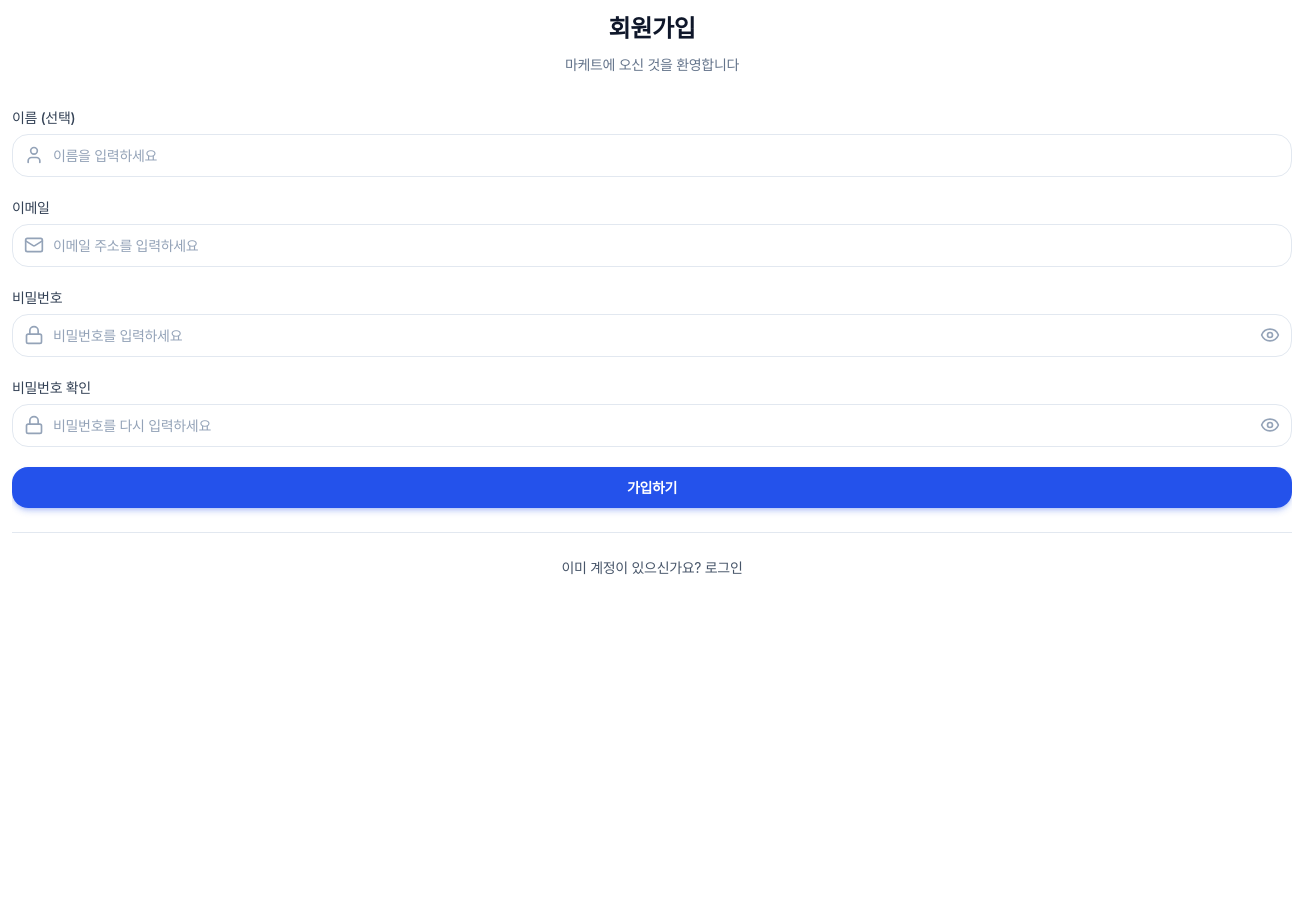
Scenario: SignUpForm › 유효성 검사 › 빈 이메일 제출 시 에러 메시지를 표시한다
The image size is (1304, 912).
Click the button "가입하기": [652, 487] box [12,467,1292,508]
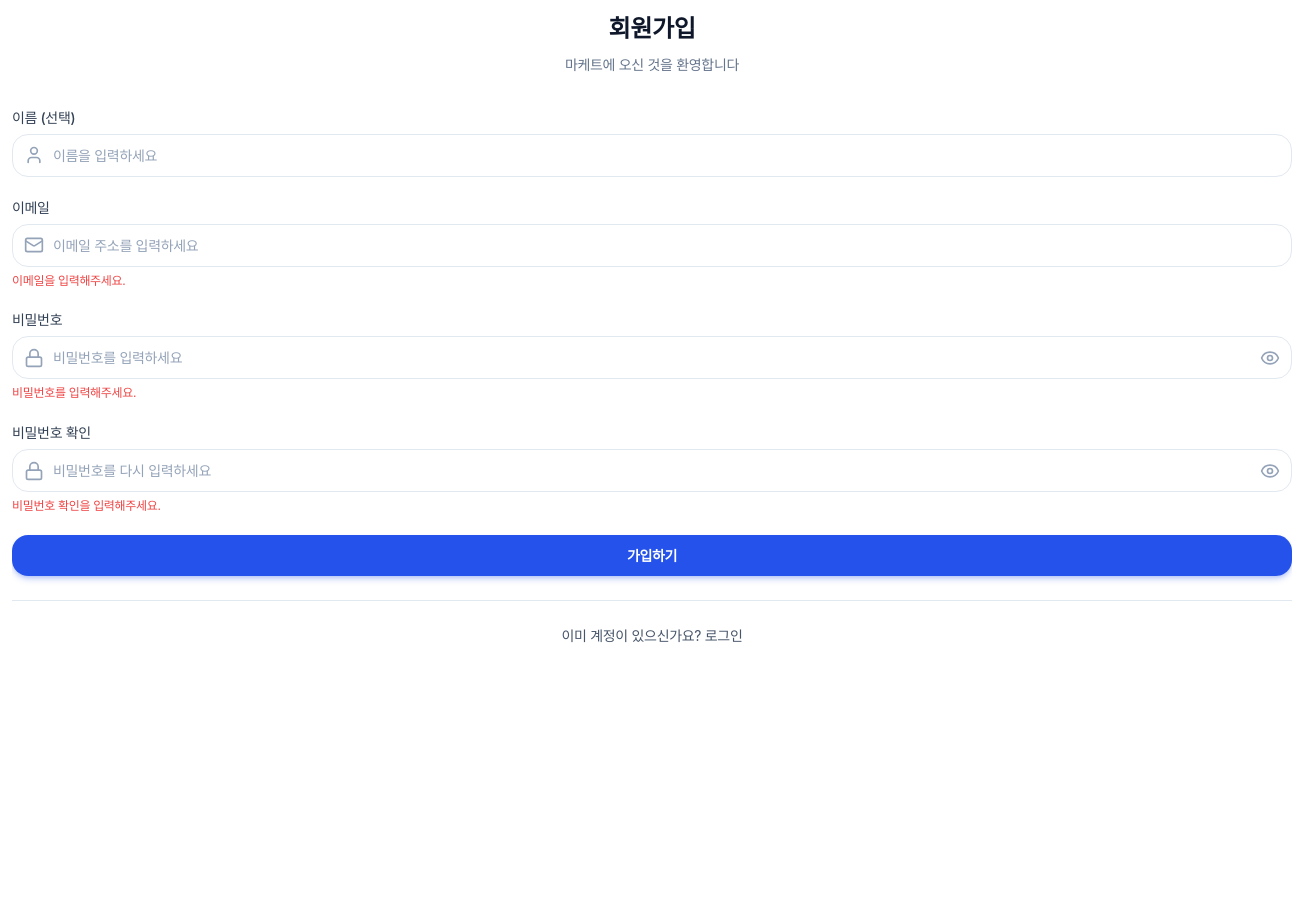
Expected: the text "이메일을 입력해주세요." is shown, [12,273,125,288]
